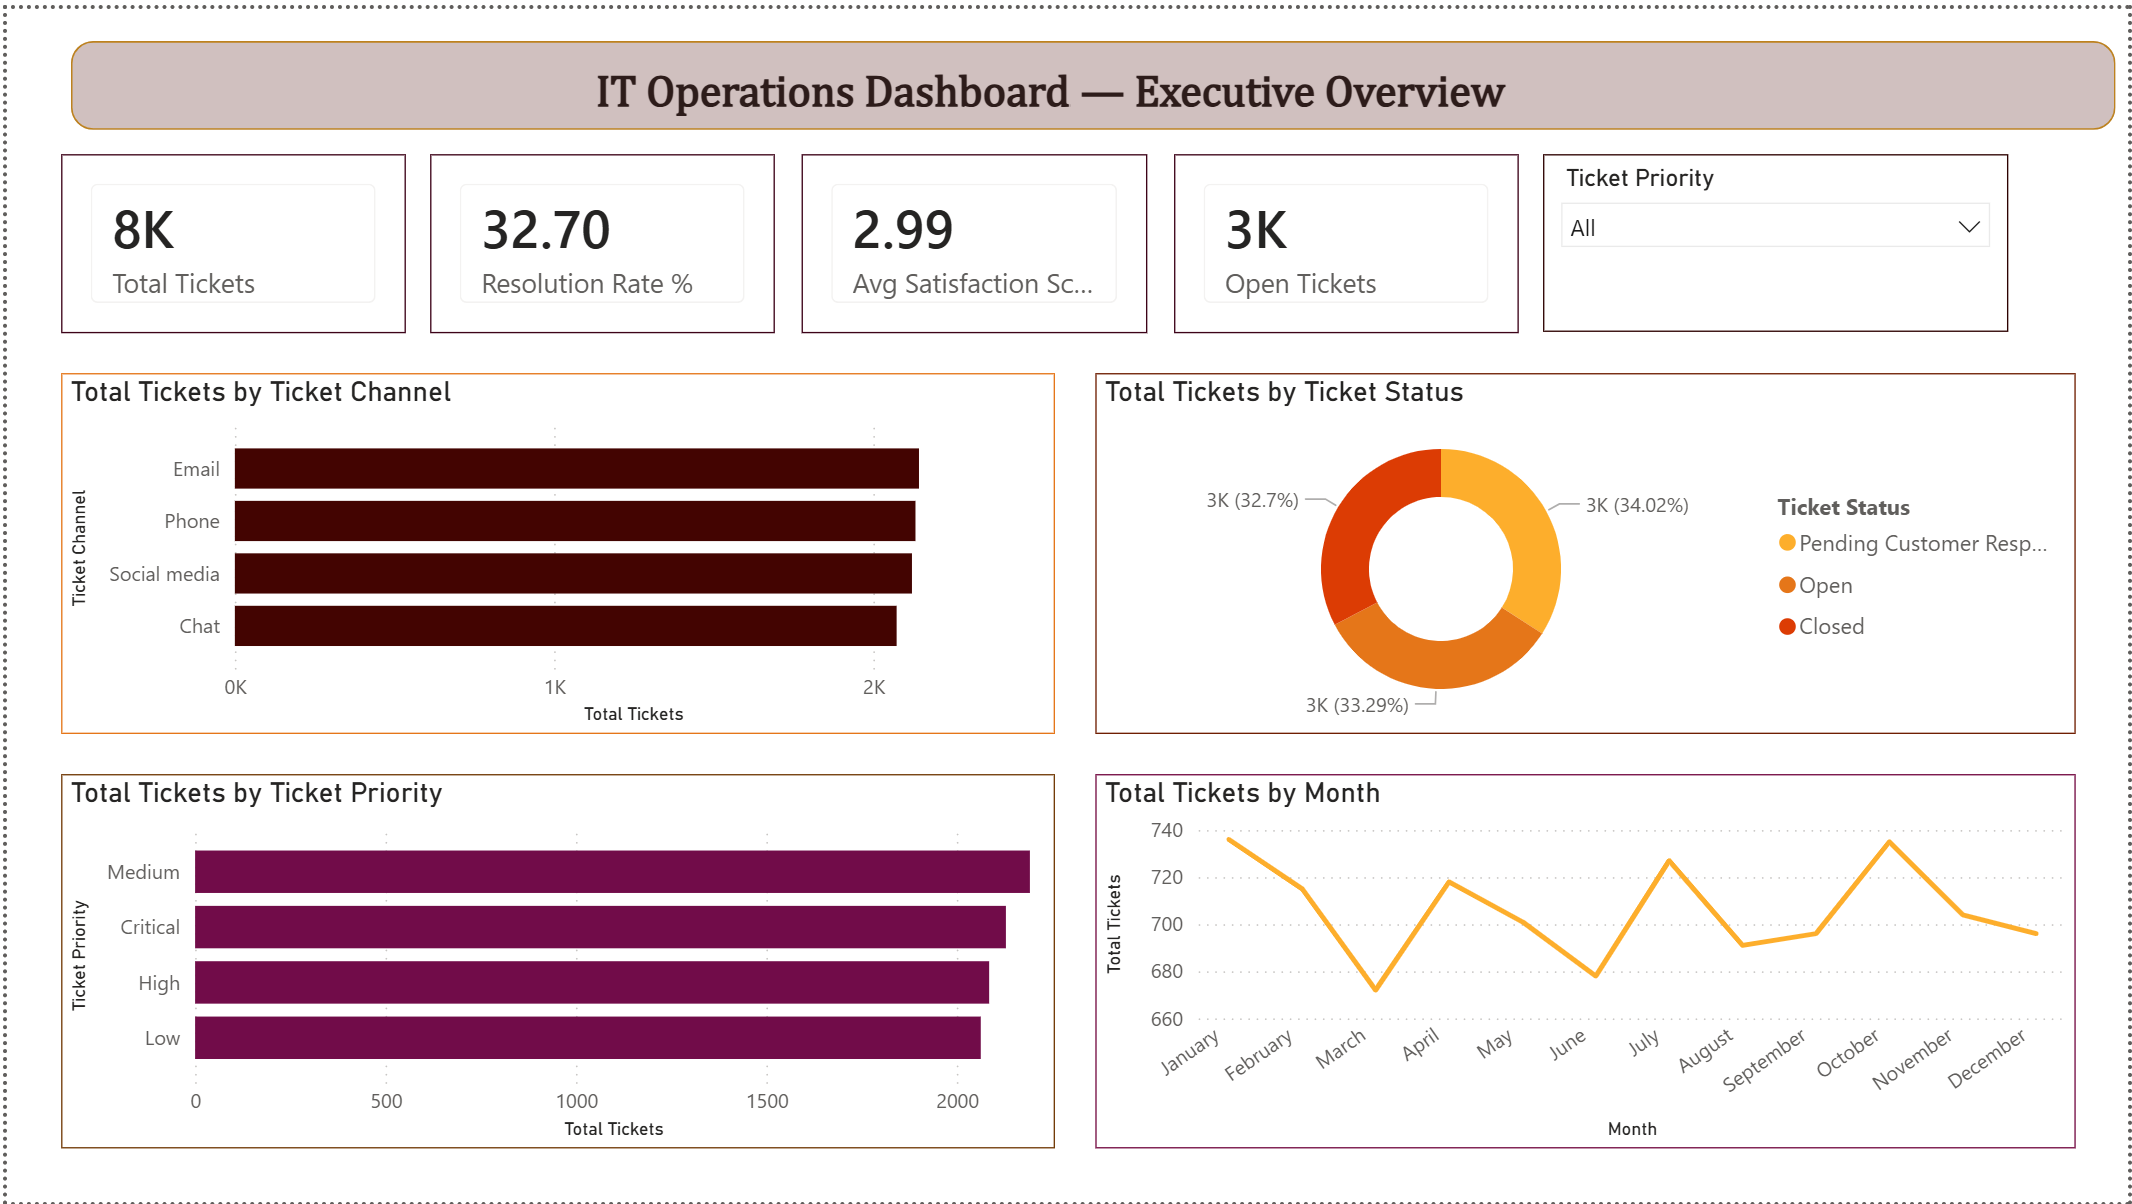

Layout of this report page (visuals, bound fields, positions):
{"tool":"powerbi","page":{"name":"Executive Overview","canvas":[1280,720],"ordinal":0},"visuals":[{"type":"cardVisual","fields":{"Data":["Measures table.Total Tickets"]},"box":[32,88,208,108],"z":0},{"type":"cardVisual","fields":{"Data":["Measures table.Resolution Rate %"]},"box":[256,88,208,108],"z":1000},{"type":"cardVisual","fields":{"Data":["Measures table.Avg Satisfaction Score"]},"box":[480,88,208,108],"z":2000},{"type":"cardVisual","fields":{"Data":["Measures table.Open Tickets"]},"box":[704,88,208,108],"z":3000},{"type":"clusteredBarChart","fields":{"Category":["customer_support_tickets.Ticket Priority"],"Y":["Measures table.Total Tickets"]},"box":[32,462,600,226],"z":4000},{"type":"donutChart","fields":{"Category":["customer_support_tickets.Ticket Status"],"Y":["Measures table.Total Tickets"]},"box":[656,220,592,218],"z":5000},{"type":"clusteredBarChart","fields":{"Category":["customer_support_tickets.Ticket Channel"],"Y":["Measures table.Total Tickets"]},"box":[32,220,600,218],"z":6000},{"type":"lineChart","fields":{"Category":["Date Table.Date.Variation.Date Hierarchy.Year","Date Table.Date.Variation.Date Hierarchy.Quarter","Date Table.Date.Variation.Date Hierarchy.Month","Date Table.Date.Variation.Date Hierarchy.Day"],"Y":["Measures table.Total Tickets"]},"box":[656,462,592,226],"z":7000},{"type":"slicer","fields":{"Values":["customer_support_tickets.Ticket Priority"]},"box":[926.2,87.6,280.7,107.3],"z":8000},{"type":"textbox","box":[179,31,900,43.1],"z":9000},{"type":"shape","box":[39.3,19.7,1233.7,53.6],"z":10000}]}

Visuals, with their boxes in screenshot pixels (x1, y1, x2, y2), scaled from the page's 1280x720 canvas onto the 2132x1204 screenshot:
cardVisual - Measures table.Total Tickets: [53, 147, 400, 328]
cardVisual - Measures table.Resolution Rate %: [426, 147, 773, 328]
cardVisual - Measures table.Avg Satisfaction Score: [800, 147, 1146, 328]
cardVisual - Measures table.Open Tickets: [1173, 147, 1519, 328]
clusteredBarChart - customer_support_tickets.Ticket Priority x Measures table.Total Tickets: [53, 773, 1053, 1150]
donutChart - customer_support_tickets.Ticket Status x Measures table.Total Tickets: [1093, 368, 2079, 732]
clusteredBarChart - customer_support_tickets.Ticket Channel x Measures table.Total Tickets: [53, 368, 1053, 732]
lineChart - Date Table.Date.Variation.Date Hierarchy.Year x Date Table.Date.Variation.Date Hierarchy.Quarter: [1093, 773, 2079, 1150]
slicer - customer_support_tickets.Ticket Priority: [1543, 146, 2010, 326]
textbox: [298, 52, 1797, 124]
shape: [65, 33, 2120, 123]
